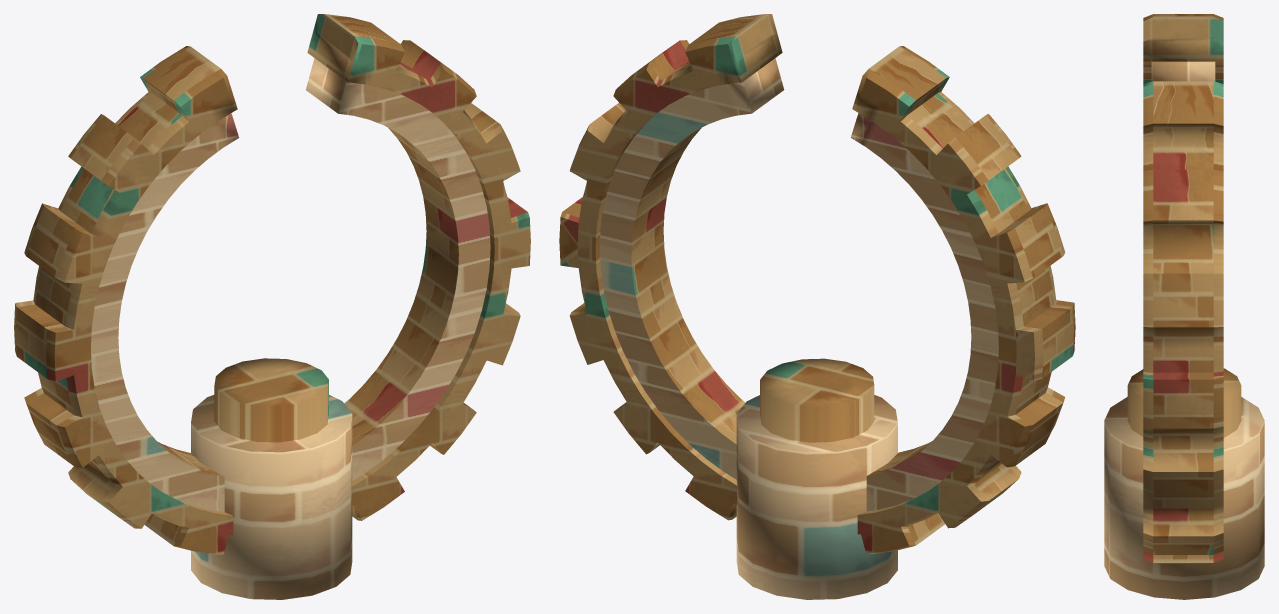
The model's file is MayanTrapPedestalBase.fbx.
3 views of the same model, side by side, from view 1: azimuth 30°, elevation 25°; view 2: azimuth 150°, elevation 25°; view 3: azimuth 270°, elevation 25° (orthographic).
Parts seen in each view (by area): view 1: Circle.007; view 2: Circle.007; view 3: Circle.007.
Part boxes in pixels (x1,y1,x2,y2): Circle.007: [14, 14, 530, 599]; Circle.007: [559, 14, 1075, 599]; Circle.007: [1104, 14, 1264, 599].
Bounding box in the file's own units: 2520 × 2616 × 736.
2 materials, 2 textured.
